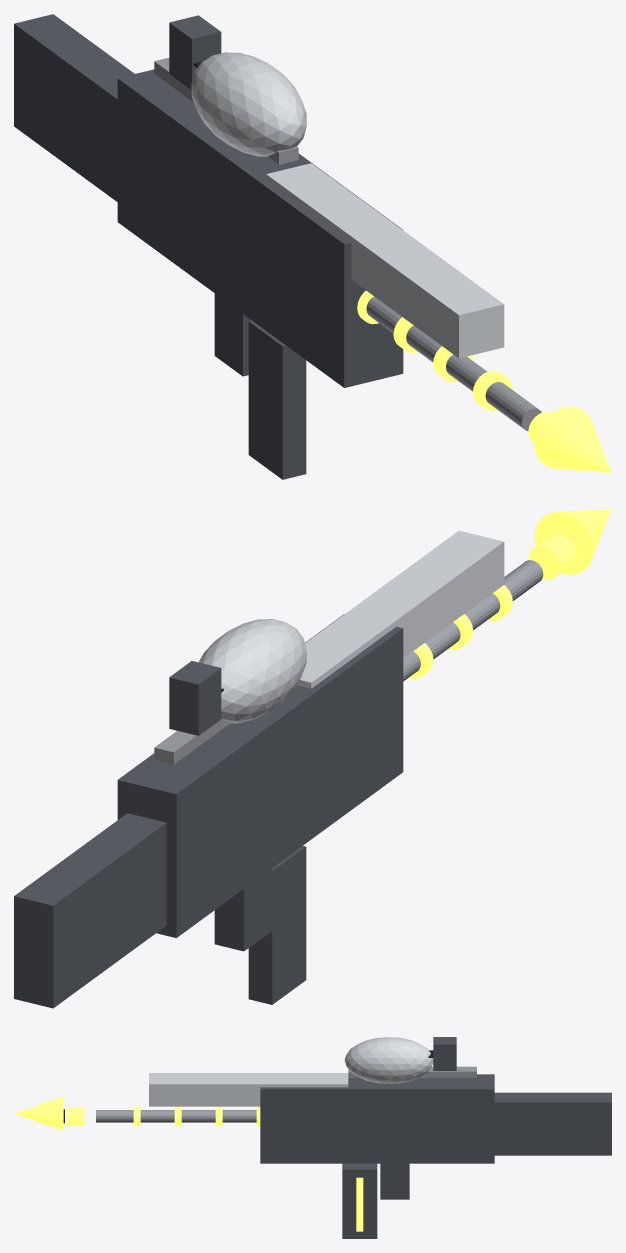
Rendered from plasma.glb.
3 renders of one model, top to bottom at view 1: azimuth 30°, elevation 25°; view 2: azimuth 150°, elevation 25°; view 3: azimuth 270°, elevation 25°, orthographic. The views are drawn at different scales.
Parts seen in each view (by area): view 1: plasma.body, plasma.shroud, plasma.stock, plasma.chamber, plasma.mag, plasma.flash, plasma.barrel, plasma.sight, plasma.grip, plasma.rail, plasma.coil3; view 2: plasma.body, plasma.stock, plasma.shroud, plasma.chamber, plasma.mag, plasma.sight, plasma.grip, plasma.barrel, plasma.flash, plasma.emitter, plasma.rail; view 3: plasma.body, plasma.stock, plasma.shroud, plasma.chamber, plasma.mag, plasma.barrel, plasma.grip, plasma.flash, plasma.sight, plasma.rail, plasma.mag_glow, plasma.emitter.
Boxes of the visible parts, box(x1,y1,x2,y2) form: plasma.body: box(117, 69, 403, 387); plasma.shroud: box(266, 163, 504, 358); plasma.stock: box(14, 14, 134, 201); plasma.chamber: box(191, 52, 306, 156); plasma.mag: box(248, 320, 306, 479); plasma.flash: box(534, 406, 611, 472); plasma.barrel: box(366, 296, 541, 430); plasma.sight: box(169, 15, 221, 89); plasma.grip: box(214, 293, 251, 376); plasma.rail: box(154, 57, 298, 164); plasma.coil3: box(473, 370, 512, 411); plasma.body: box(117, 614, 403, 937); plasma.stock: box(14, 813, 166, 1008); plasma.shroud: box(297, 530, 504, 688); plasma.chamber: box(198, 619, 306, 723); plasma.mag: box(248, 846, 306, 1004); plasma.sight: box(169, 661, 221, 735); plasma.grip: box(214, 868, 272, 951); plasma.barrel: box(403, 560, 543, 681); plasma.flash: box(534, 508, 611, 574); plasma.emitter: box(528, 534, 576, 580); plasma.rail: box(154, 718, 230, 764); plasma.body: box(260, 1074, 494, 1163); plasma.stock: box(494, 1092, 611, 1155); plasma.shroud: box(149, 1073, 348, 1106); plasma.chamber: box(344, 1037, 433, 1083); plasma.mag: box(342, 1163, 377, 1238); plasma.barrel: box(96, 1110, 256, 1122); plasma.grip: box(380, 1163, 409, 1199); plasma.flash: box(14, 1096, 63, 1130); plasma.sight: box(433, 1037, 456, 1070); plasma.rail: box(348, 1066, 476, 1077); plasma.mag_glow: box(356, 1177, 363, 1231); plasma.emitter: box(66, 1107, 84, 1125).
Size of the model in its own units: 0.08 by 0.37 by 1.02.
